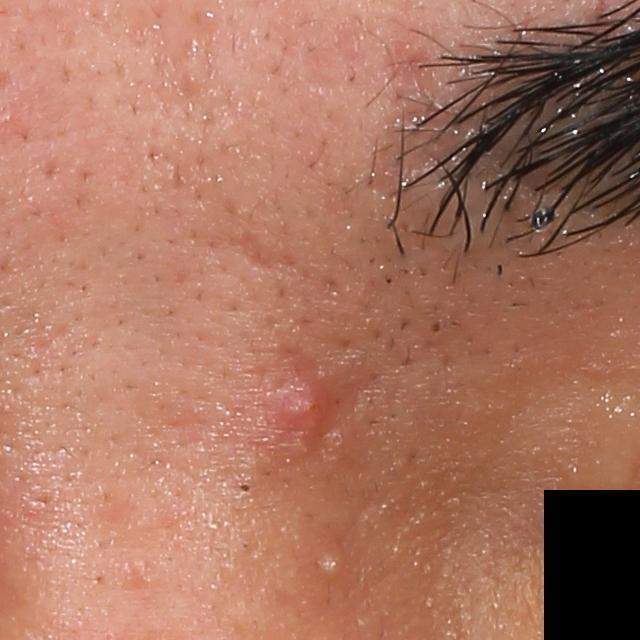atrophic_scar: (239, 229, 285, 274)
comedo: (429, 315, 448, 340), (236, 479, 256, 498)
papule: (268, 370, 329, 437)
